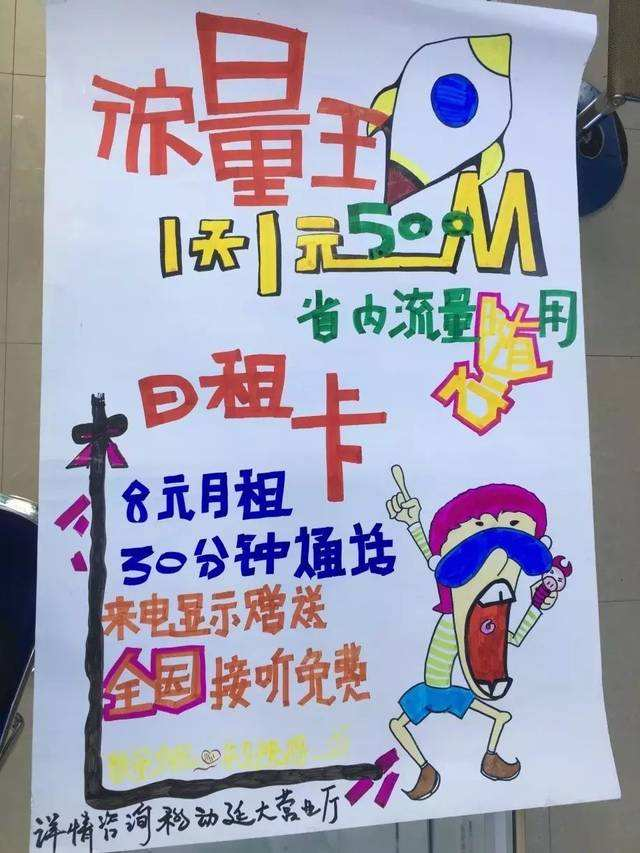bill: (31, 4, 618, 852)
